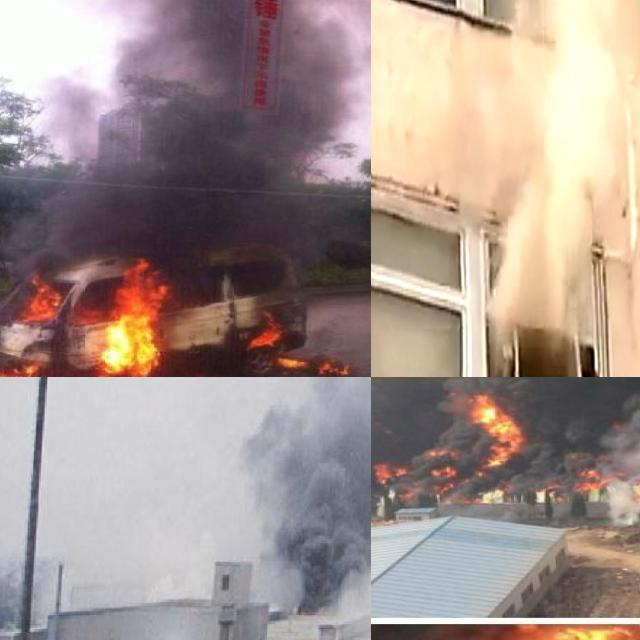fire: (0, 258, 174, 377), (401, 392, 524, 500), (241, 316, 350, 372), (575, 468, 604, 489), (373, 461, 405, 480)
smoke: (31, 0, 349, 258), (487, 0, 640, 377), (228, 377, 371, 613), (527, 377, 640, 469), (371, 385, 423, 484), (604, 489, 636, 520)
